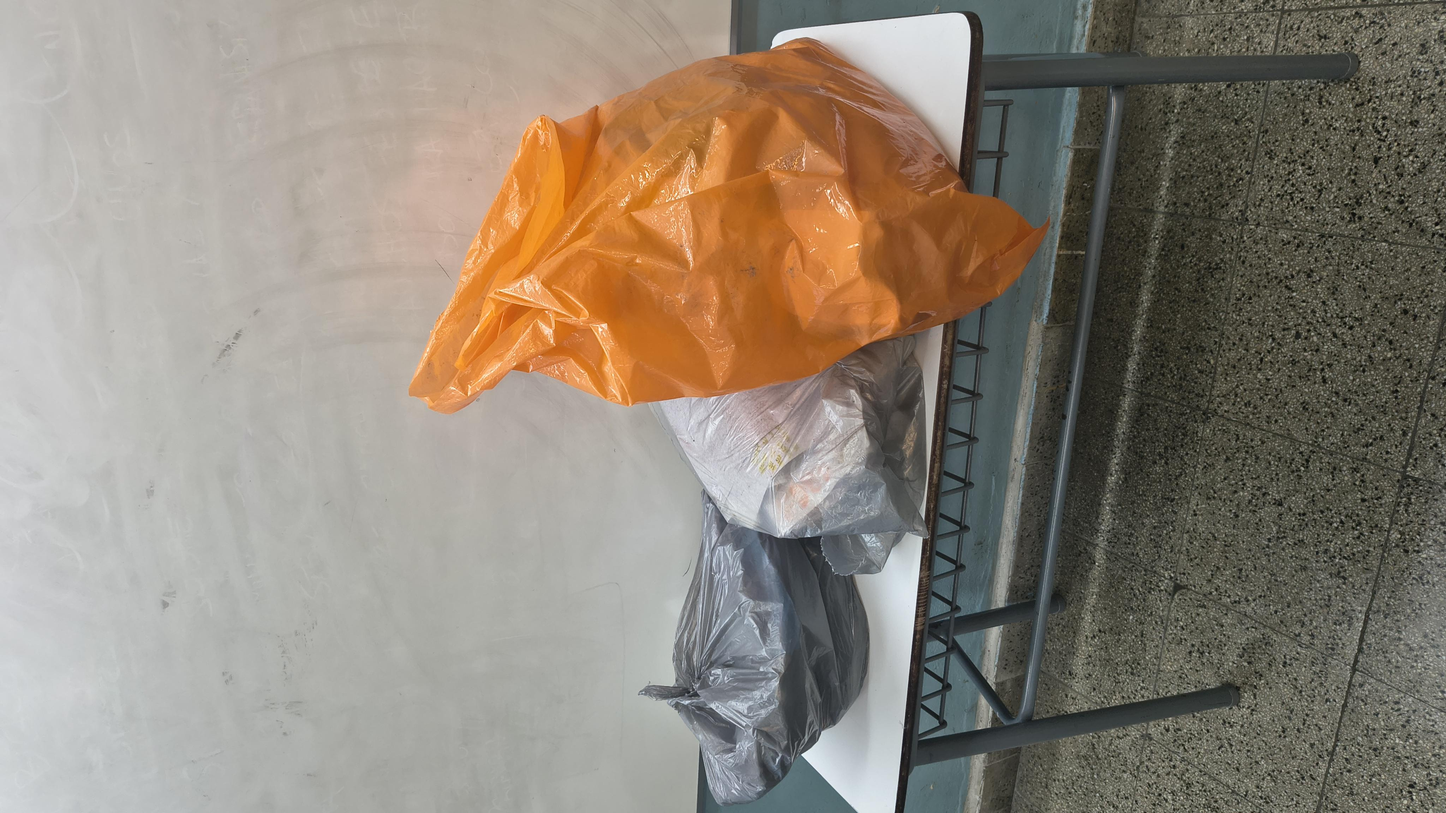Garbage: (690, 220, 1412, 576), (6, 341, 515, 552), (477, 322, 841, 574)
